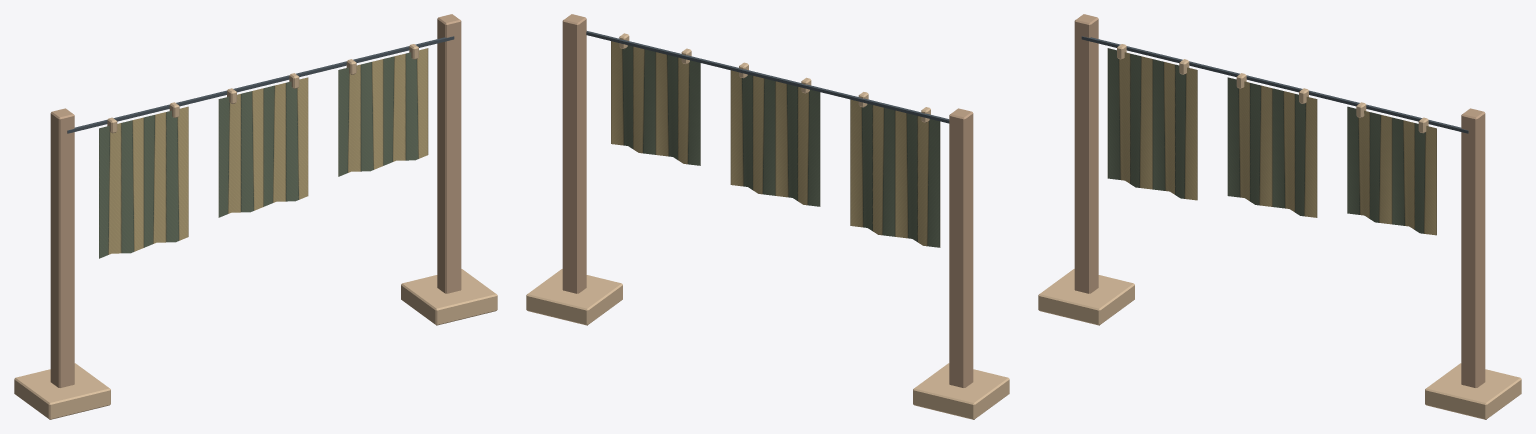
File: cloth_laundry_line.glb
3 views of the same model, side by side, from view 1: azimuth 30°, elevation 25°; view 2: azimuth 150°, elevation 25°; view 3: azimuth 330°, elevation 25° (orthographic).
Visible parts, largest first — view 1: cloth_laundry_line / fabric, Laundry post, Laundry post.001, Laundry foot, Laundry foot.001, Hanging rope; view 2: cloth_laundry_line / fabric, Laundry post, Laundry post.001, Laundry foot, Laundry foot.001, Hanging rope; view 3: cloth_laundry_line / fabric, Laundry post.001, Laundry post, Laundry foot.001, Laundry foot, Hanging rope.
Boxes of the visible parts, x1=… form: cloth_laundry_line / fabric: x1=99, y1=48, x2=428, y2=258; Laundry post: x1=50, y1=108, x2=74, y2=387; Laundry post.001: x1=437, y1=14, x2=461, y2=293; Laundry foot: x1=14, y1=363, x2=110, y2=419; Laundry foot.001: x1=401, y1=269, x2=497, y2=325; Hanging rope: x1=67, y1=36, x2=454, y2=133; cloth_laundry_line / fabric: x1=611, y1=41, x2=940, y2=247; Laundry post: x1=949, y1=108, x2=973, y2=387; Laundry post.001: x1=562, y1=14, x2=586, y2=293; Laundry foot: x1=913, y1=363, x2=1009, y2=419; Laundry foot.001: x1=526, y1=269, x2=622, y2=325; Hanging rope: x1=586, y1=31, x2=949, y2=123; cloth_laundry_line / fabric: x1=1107, y1=48, x2=1436, y2=235; Laundry post.001: x1=1461, y1=108, x2=1485, y2=387; Laundry post: x1=1074, y1=14, x2=1098, y2=293; Laundry foot.001: x1=1425, y1=363, x2=1521, y2=419; Laundry foot: x1=1038, y1=269, x2=1134, y2=325; Hanging rope: x1=1081, y1=36, x2=1468, y2=133.
Bounding box in the file's own units: 3.6 × 2.2 × 0.5.
4 materials, 1 textured.
